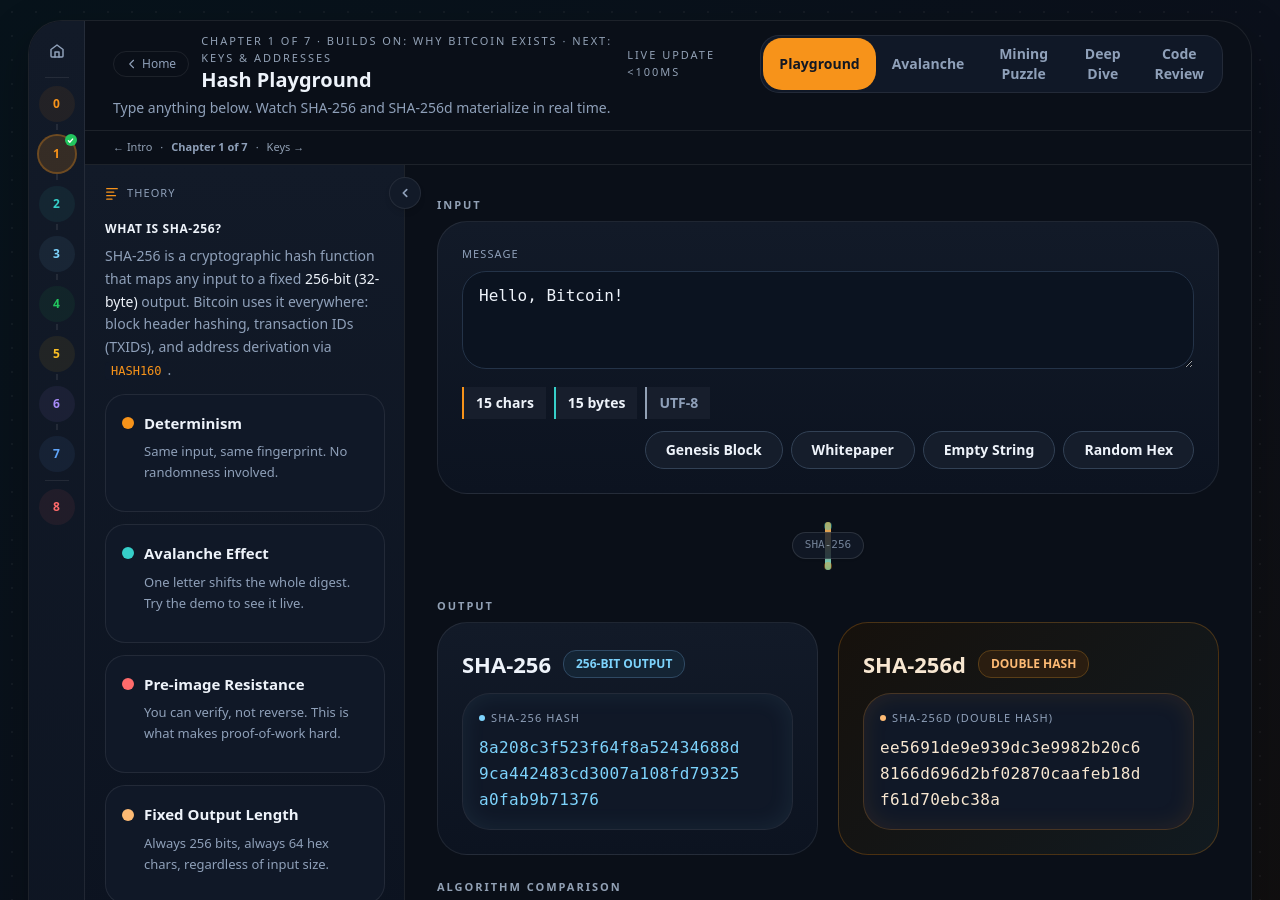
Test case: HashPlayground › loads Genesis Block preset input
The width and height of the screenshot is (1280, 900).
Click the button "Genesis Block": [714, 450] box [645,430,783,468]
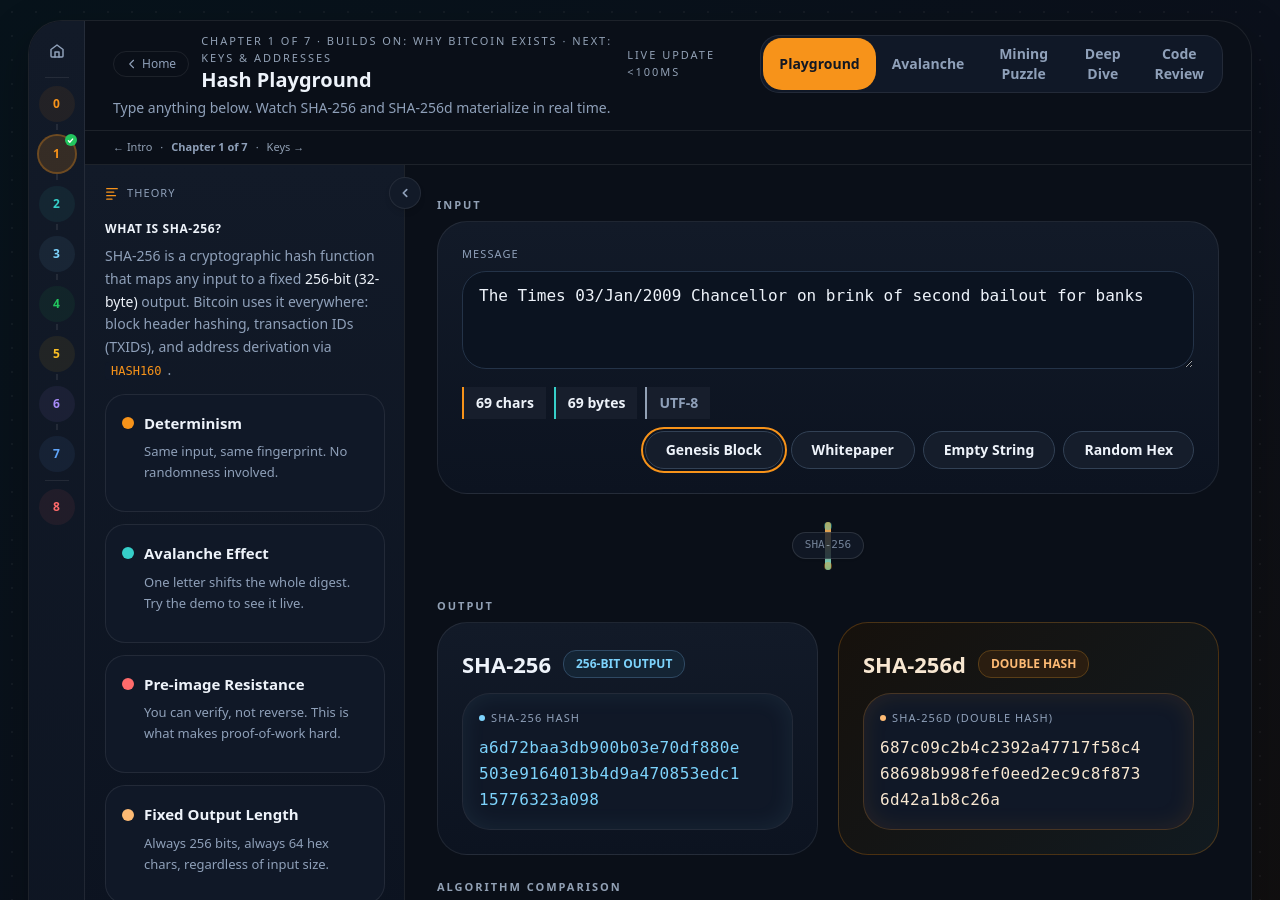
Check: the text box showing "The Times 03" is shown, box [462,270,1194,368]
